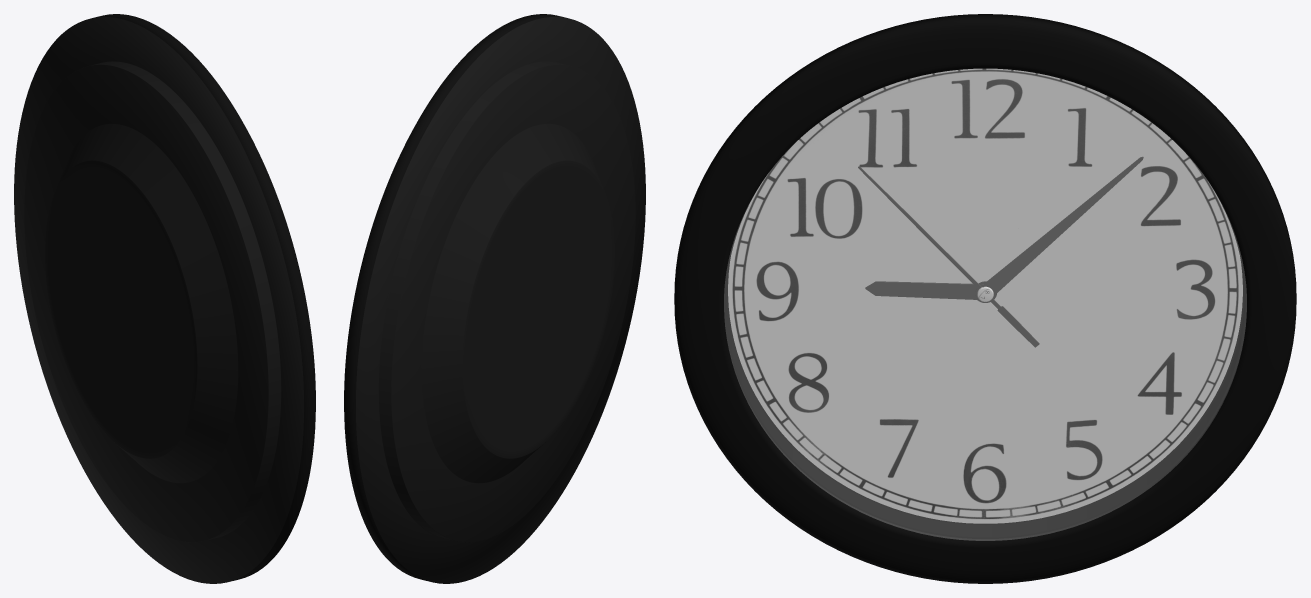
3 renders of one model, left to right at view 1: azimuth 30°, elevation 25°; view 2: azimuth 150°, elevation 25°; view 3: azimuth 270°, elevation 25°, orthographic. The views are drawn at different scales.
Parts seen in each view (by area): view 1: Cover_10; view 2: Cover_10; view 3: Glass_11, Face_9, Cover_10, Minute Hand_7, Hour Hand_6, Second Hand_8.
Boxes of the visible parts, bbox=[...] form: Cover_10: bbox=[14, 14, 315, 583]; Cover_10: bbox=[344, 14, 645, 583]; Glass_11: bbox=[724, 69, 1246, 540]; Face_9: bbox=[728, 68, 1242, 523]; Cover_10: bbox=[674, 14, 1296, 583]; Minute Hand_7: bbox=[975, 156, 1143, 302]; Hour Hand_6: bbox=[865, 281, 996, 302]; Second Hand_8: bbox=[858, 166, 1039, 347].
Size of the model in its own units: 0.0315 by 0.278 by 0.278.
5 materials, 1 textured.
